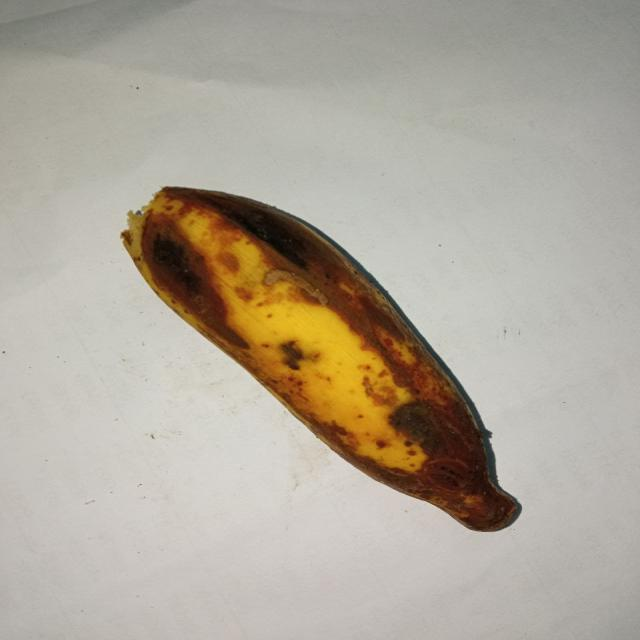rotten_banana: (125, 184, 523, 535)
